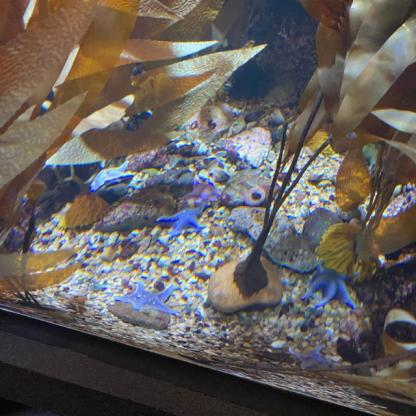starfish: (304, 258, 360, 310), (114, 281, 180, 316), (156, 199, 207, 237), (90, 161, 136, 191), (290, 344, 333, 370)
